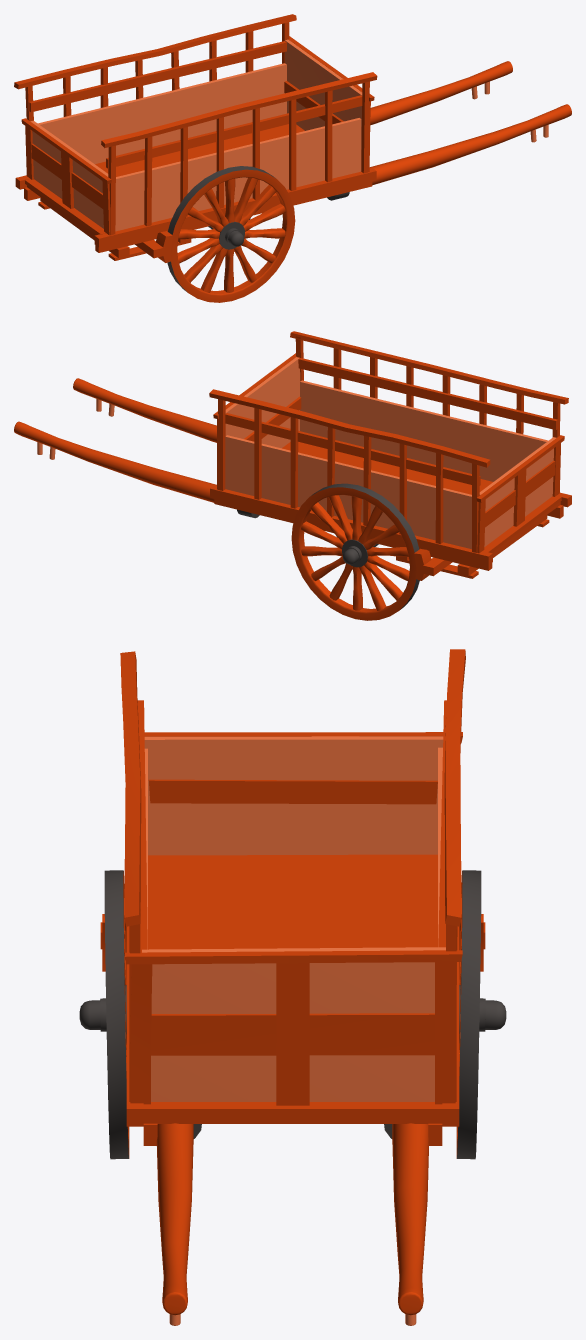
The model's file is wagon1.glb.
3 renders of one model, top to bottom at view 1: azimuth 30°, elevation 25°; view 2: azimuth 150°, elevation 25°; view 3: azimuth 270°, elevation 25°, orthographic. The views are drawn at different scales.
Visible parts, largest first — view 1: Wagon1_Medieval_0; view 2: Wagon1_Medieval_0; view 3: Wagon1_Medieval_0.
Boxes of the visible parts, x1,y1,x2,y2 form: Wagon1_Medieval_0: (14, 14, 571, 302); Wagon1_Medieval_0: (14, 331, 571, 620); Wagon1_Medieval_0: (79, 649, 506, 1325).
Size of the model in its own units: 3.27 by 1.21 by 1.25.
Materials: 1 (1 with a texture image).
